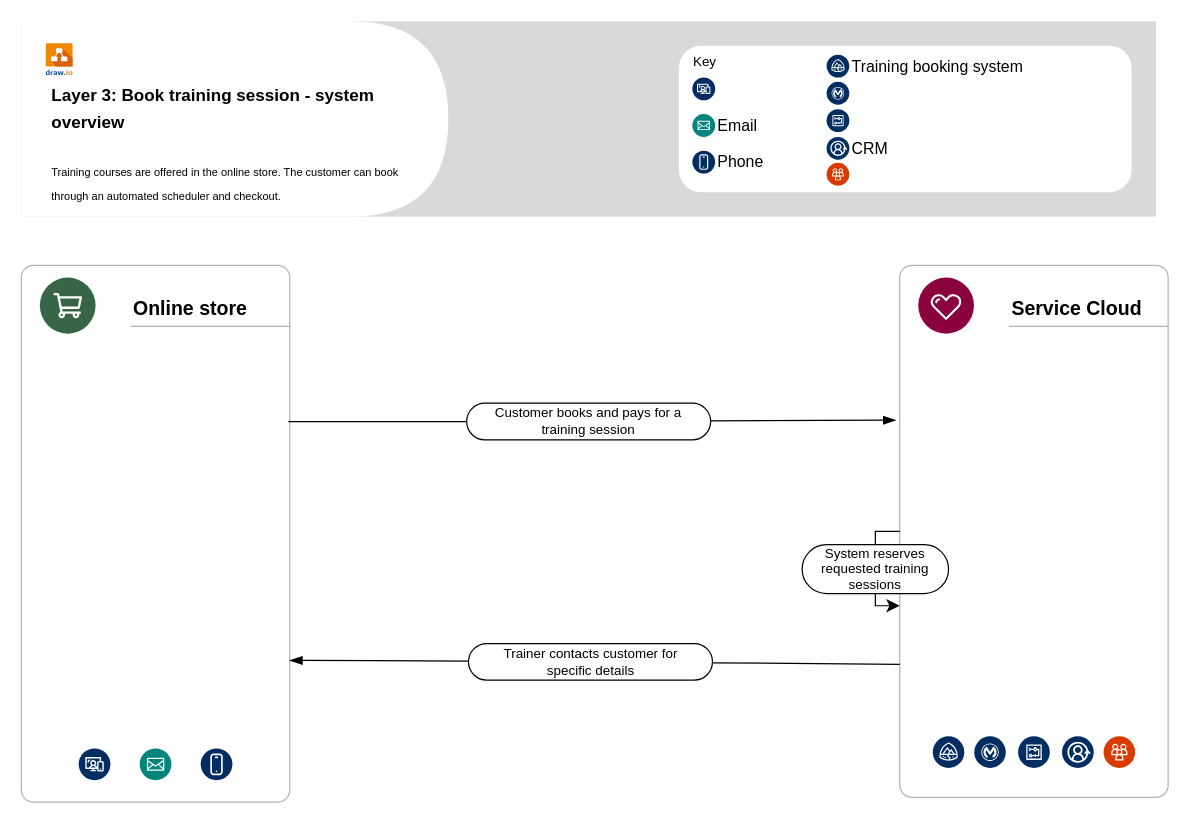
The diagram is 1190 pixels wide and 824 high, and some of its shapes have lost their labels. Each missing label, with the centre of its shape:
Payment processor: point (837, 93)
Trainer: point (837, 174)
Web forms: point (703, 88)
Workflow: point (837, 120)
